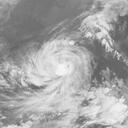cyclone: (27, 39, 94, 93)
